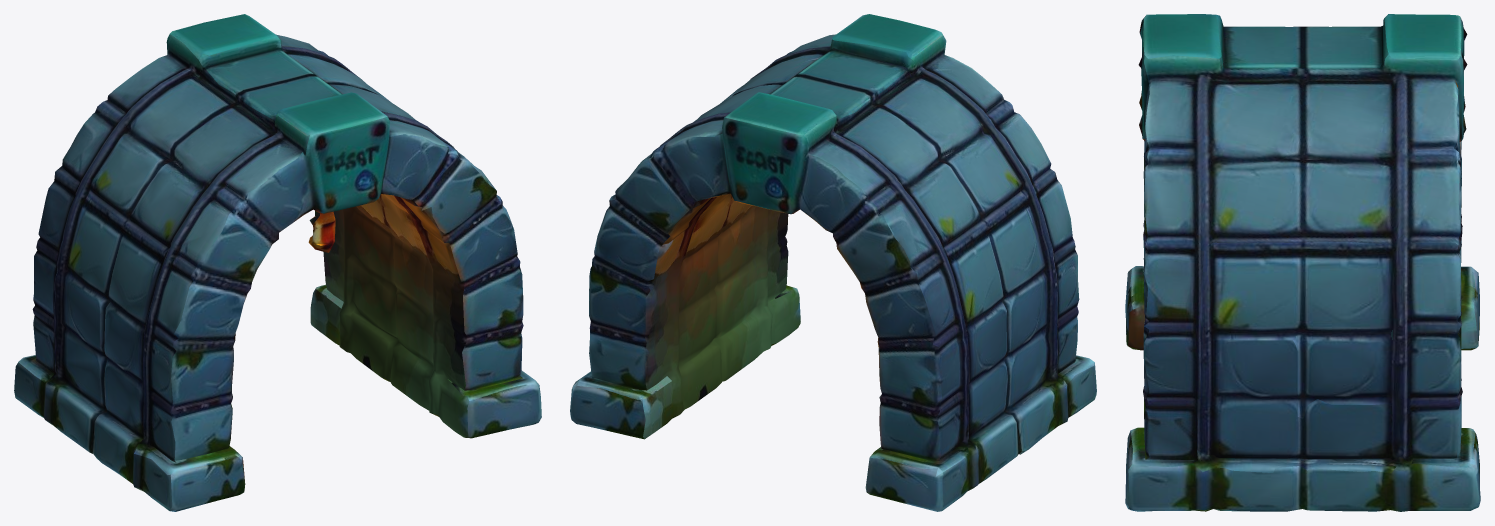
File: catacomb_arch.glb
The picture shows the model from 3 angles, left to right: view 1: azimuth 30°, elevation 25°; view 2: azimuth 150°, elevation 25°; view 3: azimuth 270°, elevation 25°; orthographic projection. The views are drawn at different scales.
Visible parts, largest first — view 1: catacomb_arch; view 2: catacomb_arch; view 3: catacomb_arch.
Boxes of the visible parts, x1,y1,x2,y2 form: catacomb_arch: [14, 14, 541, 511]; catacomb_arch: [570, 14, 1096, 511]; catacomb_arch: [1125, 14, 1480, 511].
Size of the model in its own units: 1 by 0.8619 by 0.7303.
Materials: 1 (1 with a texture image).
